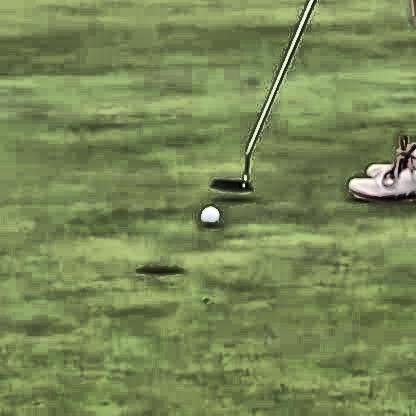golfball: (197, 200, 216, 222)
